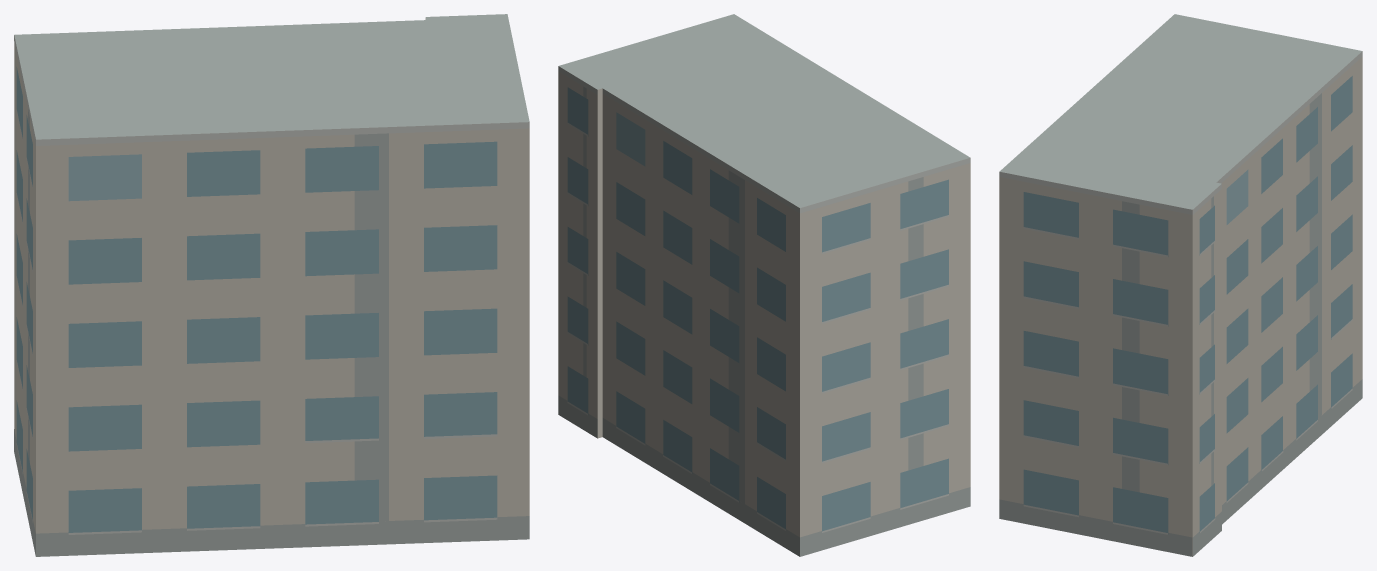
File: survey-upis-32564642.glb
3 views of the same model, side by side, from view 1: azimuth 30°, elevation 25°; view 2: azimuth 150°, elevation 25°; view 3: azimuth 270°, elevation 25° (orthographic). The views are drawn at different scales.
Visible parts, largest first — view 1: survey-upis-32564642.tmp; view 2: survey-upis-32564642.tmp; view 3: survey-upis-32564642.tmp.
Part boxes in pixels (box(x1,y1,x2,y2)): survey-upis-32564642.tmp: box(14, 14, 529, 556); survey-upis-32564642.tmp: box(558, 14, 970, 556); survey-upis-32564642.tmp: box(999, 14, 1362, 556).
Size of the model in its own units: 19.47 by 16.08 by 15.26.
